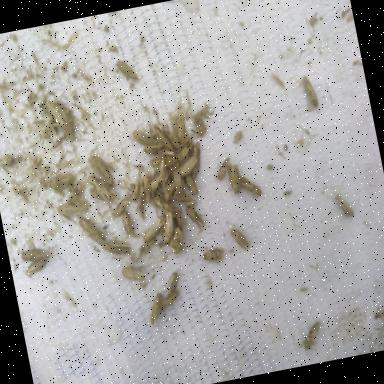pbw: (167, 100, 192, 148), (89, 152, 115, 190), (79, 216, 105, 250), (169, 136, 197, 166), (144, 292, 168, 326), (116, 56, 142, 87), (299, 320, 325, 350), (186, 140, 206, 178), (139, 217, 167, 244), (152, 119, 174, 153), (20, 243, 55, 264), (88, 173, 110, 205), (185, 202, 207, 234), (238, 171, 262, 199), (302, 72, 320, 109), (45, 172, 76, 193), (166, 110, 182, 150), (22, 255, 50, 277), (226, 162, 244, 196), (56, 199, 88, 218), (131, 126, 157, 149), (229, 224, 250, 252), (335, 191, 355, 220), (120, 262, 146, 284), (101, 238, 131, 257), (167, 225, 186, 254), (158, 288, 183, 310), (158, 213, 174, 247), (110, 194, 134, 216), (170, 166, 188, 195), (160, 178, 180, 204), (162, 270, 182, 296), (214, 156, 234, 182), (151, 186, 171, 212), (68, 190, 91, 212), (155, 155, 171, 186), (202, 245, 228, 264), (178, 154, 200, 176), (121, 210, 137, 240), (161, 209, 176, 238), (128, 178, 144, 202), (142, 142, 165, 158), (141, 174, 153, 204), (130, 245, 148, 264), (172, 189, 192, 205), (184, 174, 198, 196), (270, 70, 285, 90), (173, 209, 184, 232), (136, 178, 146, 201), (0, 153, 14, 168), (230, 129, 244, 144), (184, 198, 198, 208)
